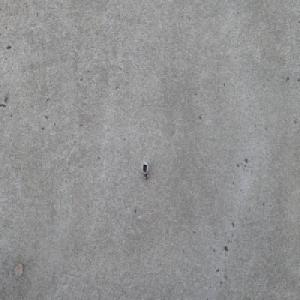MetalPart: (141, 161, 149, 181)
